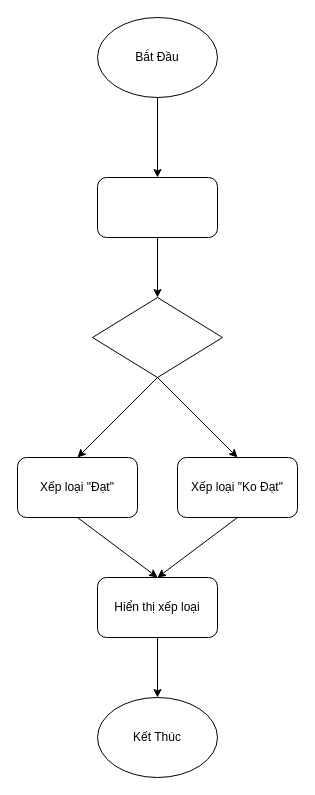
This 315x795 diagram has some shape labels left out. Each missing label, with the centre of its shape:
d>5?: point 157,337
Nhập điểm d: point 157,207
